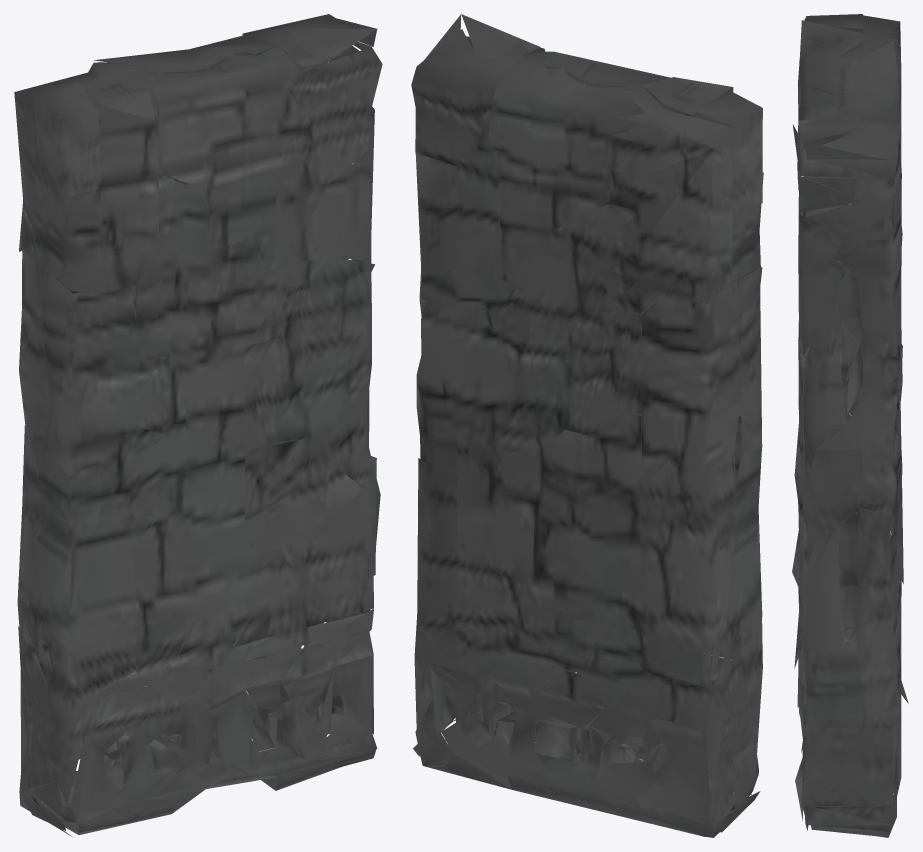
Rendered from dungeon small tall wall.glb.
3 views of the same model, side by side, from view 1: azimuth 30°, elevation 25°; view 2: azimuth 150°, elevation 25°; view 3: azimuth 270°, elevation 25° (orthographic). The views are drawn at different scales.
Visible parts, largest first — view 1: Mesh_0; view 2: Mesh_0; view 3: Mesh_0.
Part boxes in pixels (x1,y1,x2,y2): Mesh_0: (14,14,382,836); Mesh_0: (411,14,763,837); Mesh_0: (792,14,908,837).
Size of the model in its own units: 0.32 by 0.7073 by 0.1073.
1 material, 1 textured.
